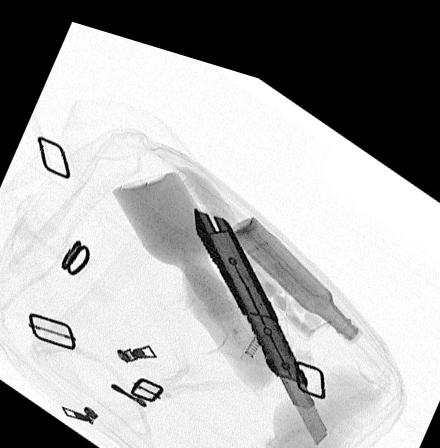Knife: (191, 194, 328, 426)
